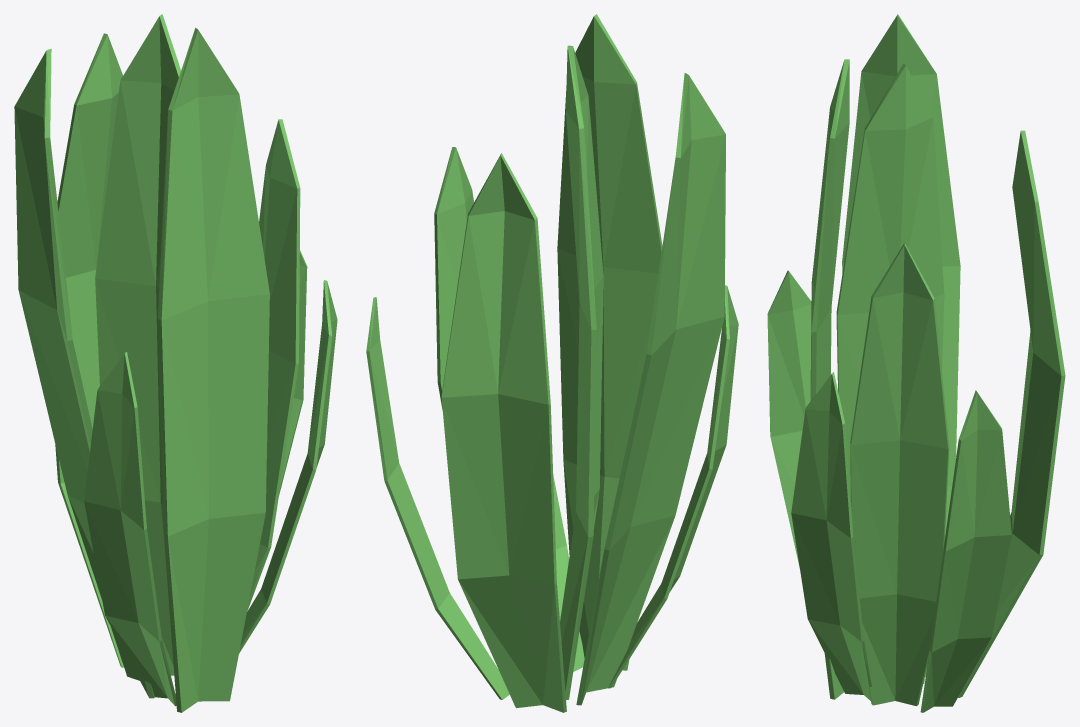
The model's file is tropical_plant_1.glb.
3 renders of one model, left to right at view 1: azimuth 30°, elevation 25°; view 2: azimuth 150°, elevation 25°; view 3: azimuth 270°, elevation 25°, orthographic. The views are drawn at different scales.
Visible parts, largest first — view 1: Tropical_plant_001; view 2: Tropical_plant_001; view 3: Tropical_plant_001.
Part boxes in pixels (x1=…): Tropical_plant_001: x1=14, y1=14, x2=337, y2=712; Tropical_plant_001: x1=366, y1=14, x2=738, y2=712; Tropical_plant_001: x1=767, y1=14, x2=1065, y2=712.
Size of the model in its own units: 0.5037 by 1.03 by 0.4419.
Materials: 1 (1 with a texture image).
